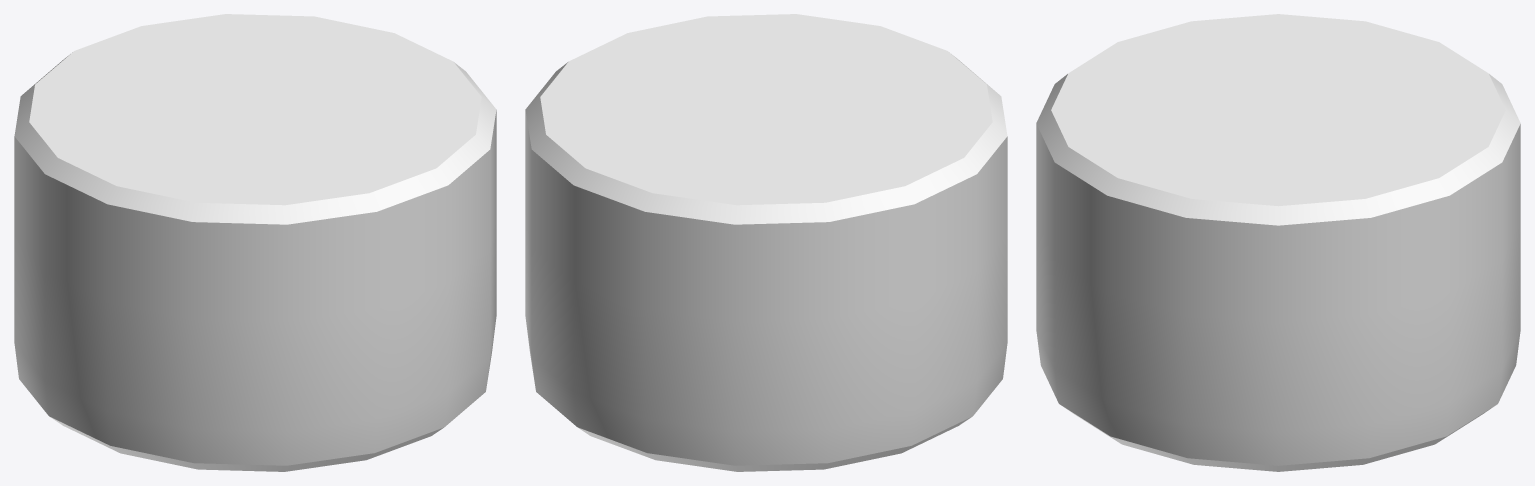
File: Body_Dress_19.fbx
3 renders of one model, left to right at view 1: azimuth 30°, elevation 25°; view 2: azimuth 150°, elevation 25°; view 3: azimuth 270°, elevation 25°, orthographic.
Visible parts, largest first — view 1: Body_Dress_19; view 2: Body_Dress_19; view 3: Body_Dress_19.
Part boxes in pixels (x1,y1,x2,y2): Body_Dress_19: [14, 14, 496, 471]; Body_Dress_19: [525, 14, 1007, 471]; Body_Dress_19: [1036, 14, 1520, 471].
Size of the model in its own units: 100 by 61.13 by 100.
